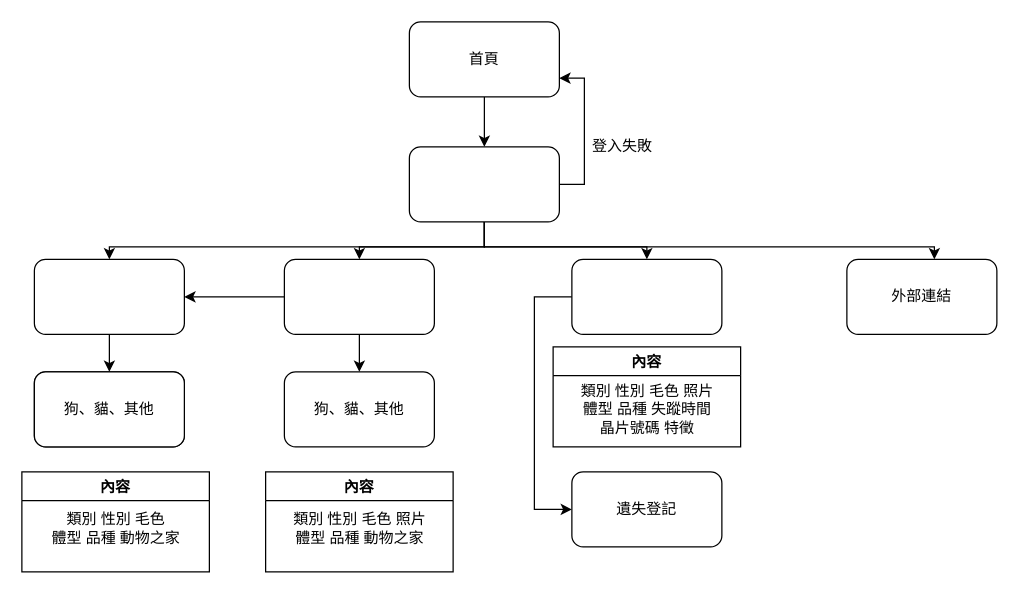
Image size: 1019x594. Some labels were removed from this diagram. Each missing label, with the centre of its shape:
公告招領: the point at 358,296
登入系統: the point at 483,184
認養動物: the point at 108,296
遺失協尋: the point at 646,296
